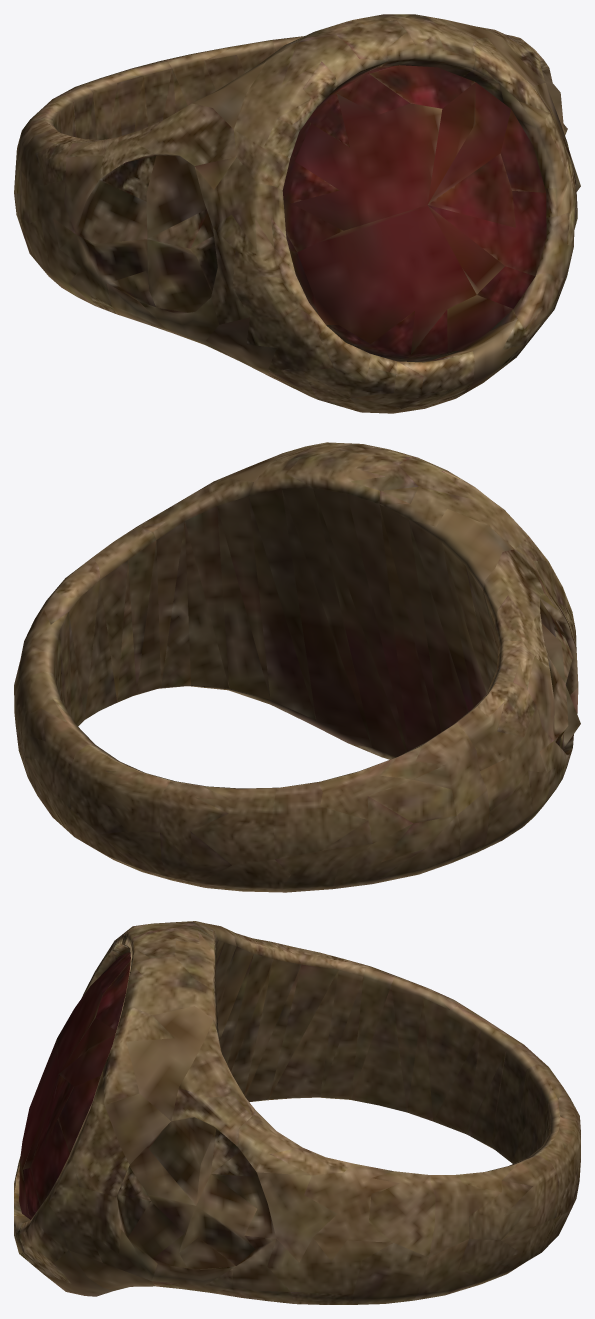
File: g_ring.glb
3 views of the same model, one above another, from view 1: azimuth 30°, elevation 25°; view 2: azimuth 150°, elevation 25°; view 3: azimuth 270°, elevation 25° (orthographic). The views are drawn at different scales.
Parts seen in each view (by area): view 1: g_ring; view 2: g_ring; view 3: g_ring.
Part boxes in pixels (<box>): g_ring: <box>14,14,580,413</box>; g_ring: <box>14,442,580,892</box>; g_ring: <box>14,921,580,1304</box>.
Bounding box in the file's own units: 0.1185 × 0.08 × 0.1223.
Materials: 1 (1 with a texture image).
